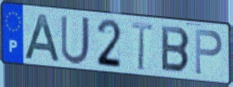2: (95, 18, 123, 71)
A: (22, 12, 62, 64)
B: (160, 24, 192, 75)
P: (194, 27, 225, 77)
T: (130, 20, 154, 73)
U: (59, 13, 92, 67)
